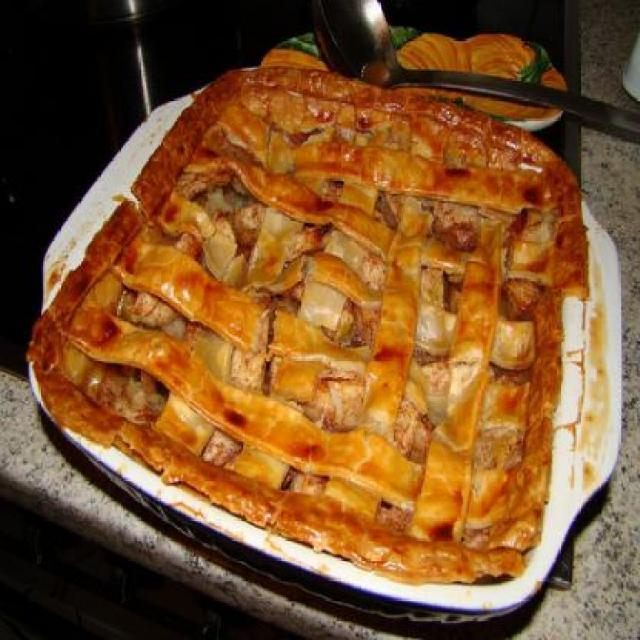Apple: (99, 74, 563, 574)
